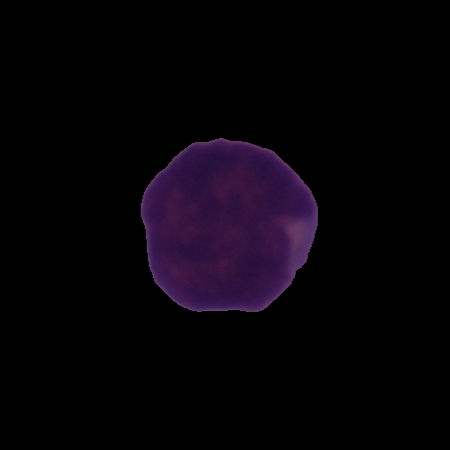ALL: (137, 135, 321, 314)
